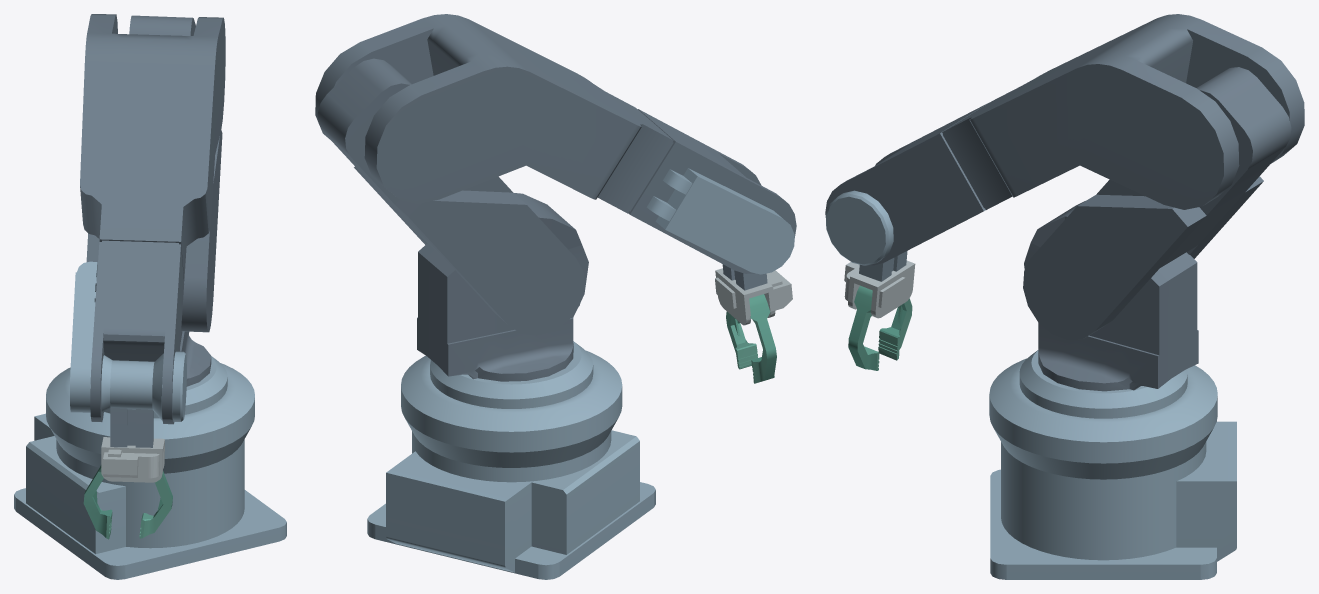
Rendered from Robot Arm.fbx.
3 views of the same model, side by side, from view 1: azimuth 30°, elevation 25°; view 2: azimuth 150°, elevation 25°; view 3: azimuth 270°, elevation 25° (orthographic). The views are drawn at different scales.
Visible parts, largest first — view 1: pCube6; view 2: pCube6; view 3: pCube6.
Boxes of the visible parts, x1,y1,x2,y2 form: pCube6: [14, 14, 286, 579]; pCube6: [315, 14, 796, 579]; pCube6: [825, 14, 1304, 579].
Bounding box in the file's own units: 34.26 × 49.63 × 42.83.
Materials: 1 (1 with a texture image).
